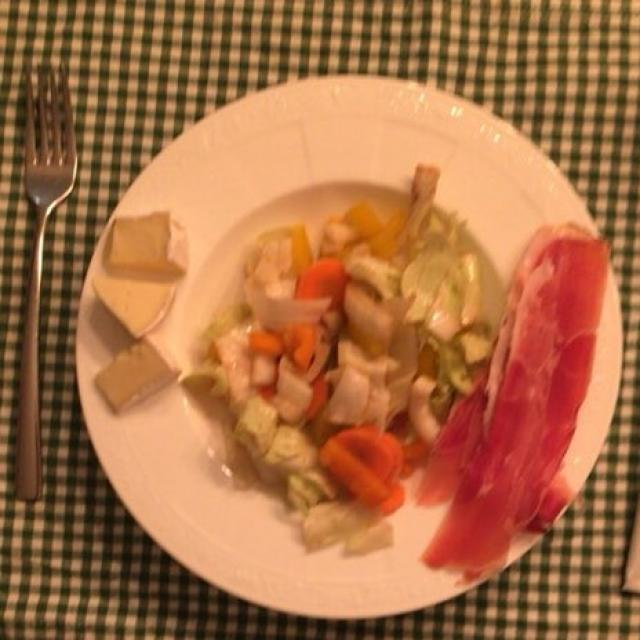carrot: (242, 259, 405, 514)
cheese: (85, 210, 181, 413)
ham: (419, 229, 616, 576)
salad: (211, 222, 472, 533)
